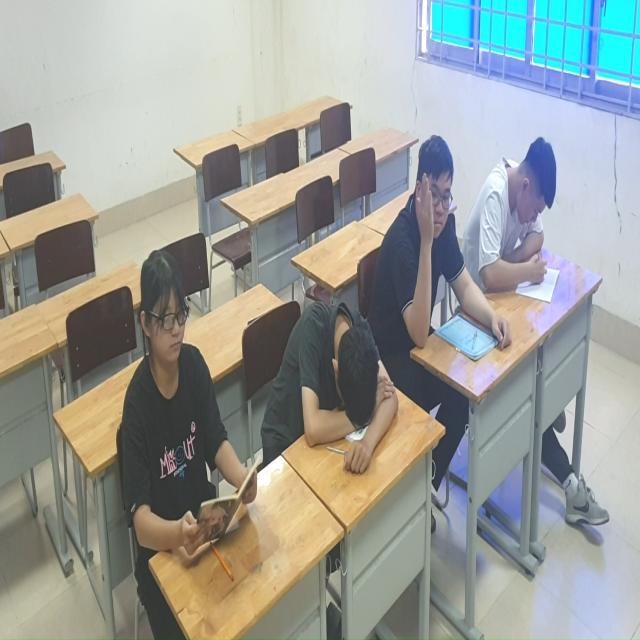raise_hand: (390, 132, 460, 359)
read: (116, 246, 262, 570), (479, 132, 564, 318)
sleep: (276, 294, 399, 495)
